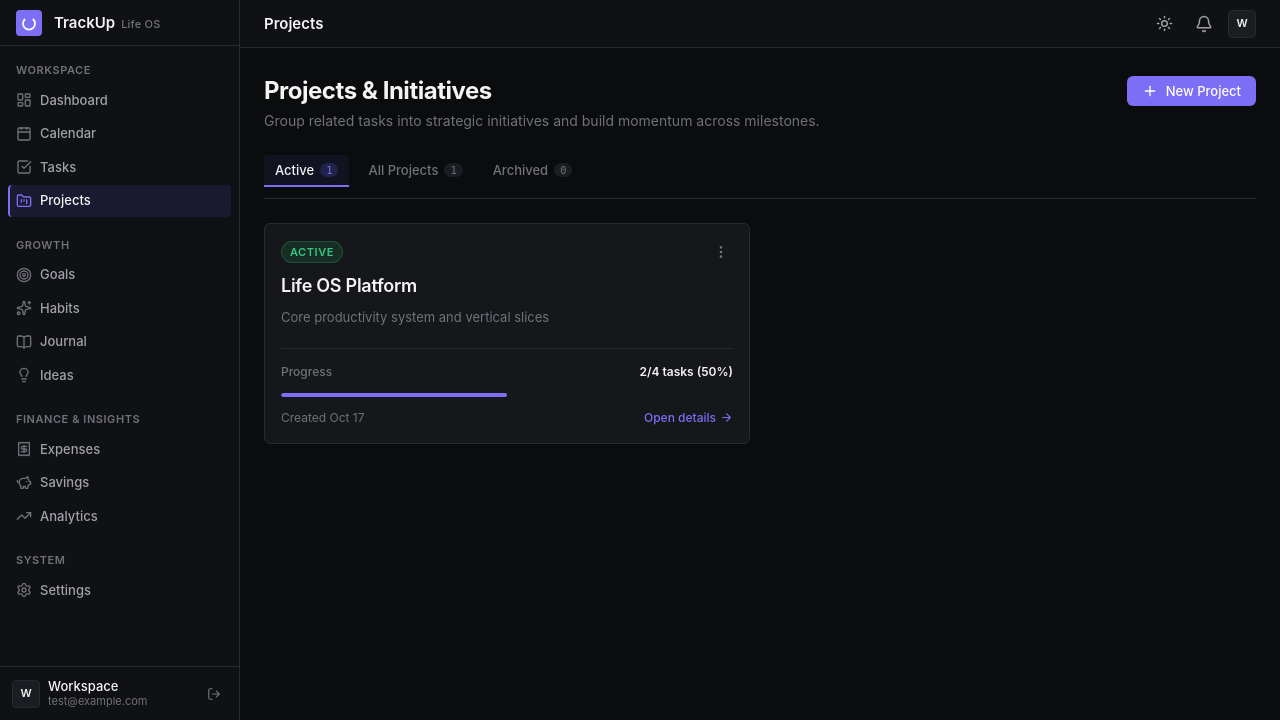
Test case: Milestone 3: Projects Vertical Slice › Projects List Page (/projects) › opens create project modal and adds newly created project to list
Expected: the link "Life OS Platform" is shown, top-left (281, 275), bottom-right (417, 296)
Click the button "New Project": (1191, 91) top-left (1127, 76), bottom-right (1256, 106)
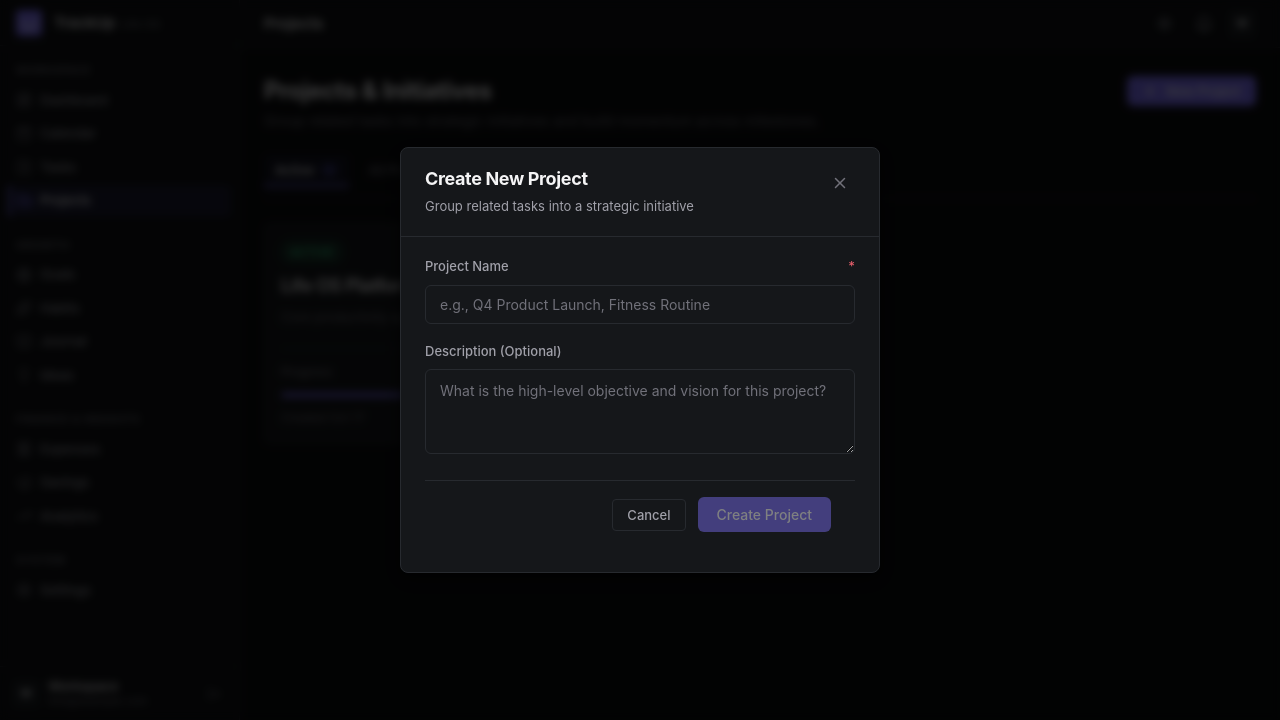
Now the heading "Create New Project" is shown, box top-left (425, 168), bottom-right (588, 189)
In the field labelled "Project Name *": (640, 304) top-left (425, 284), bottom-right (855, 324), type "Mobile Companion App"
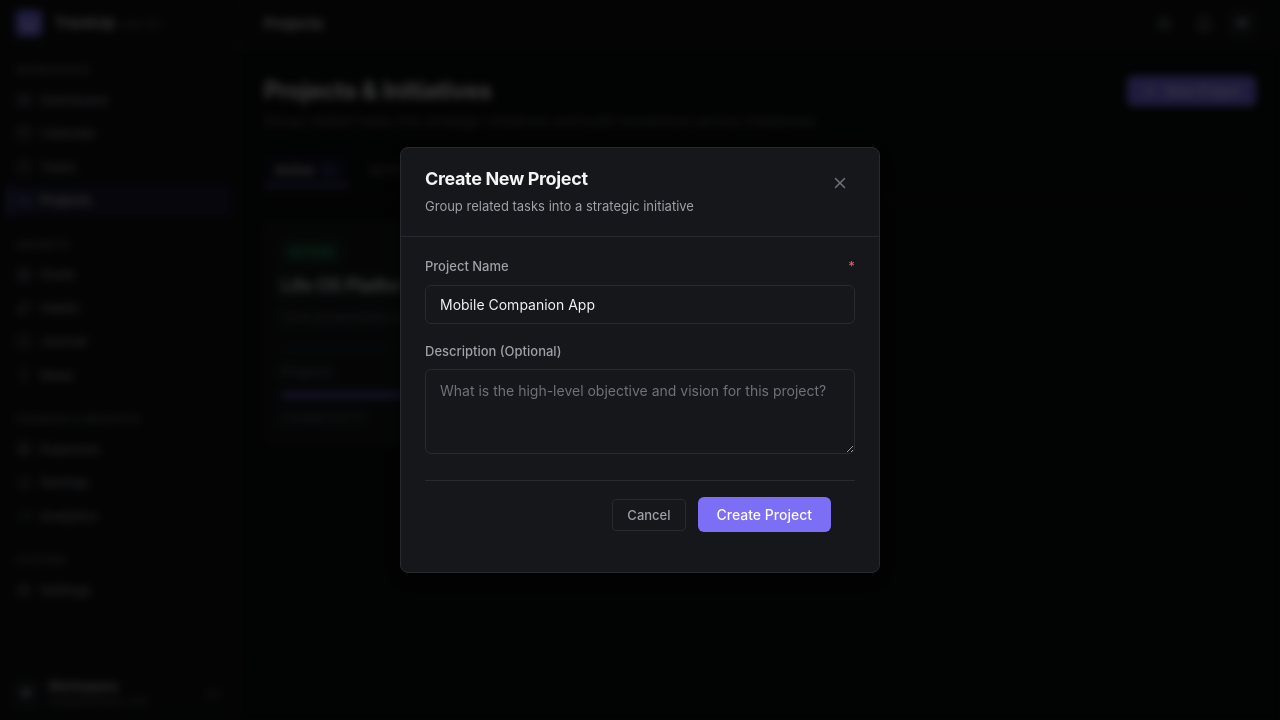
Replace the text in the text box labelled "Description (Optional)" with "React Native or PWA companion client": (640, 412) top-left (425, 369), bottom-right (855, 454)
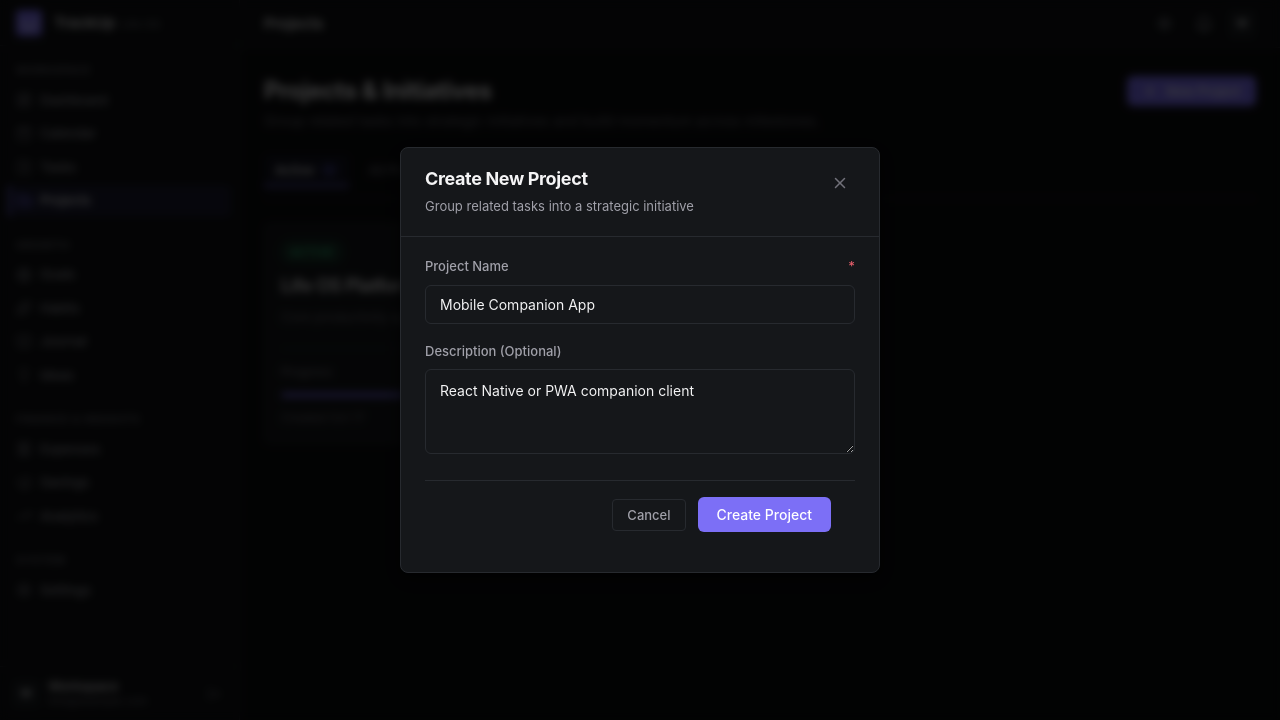
Click the button "Create Project": (764, 514) top-left (698, 497), bottom-right (831, 532)
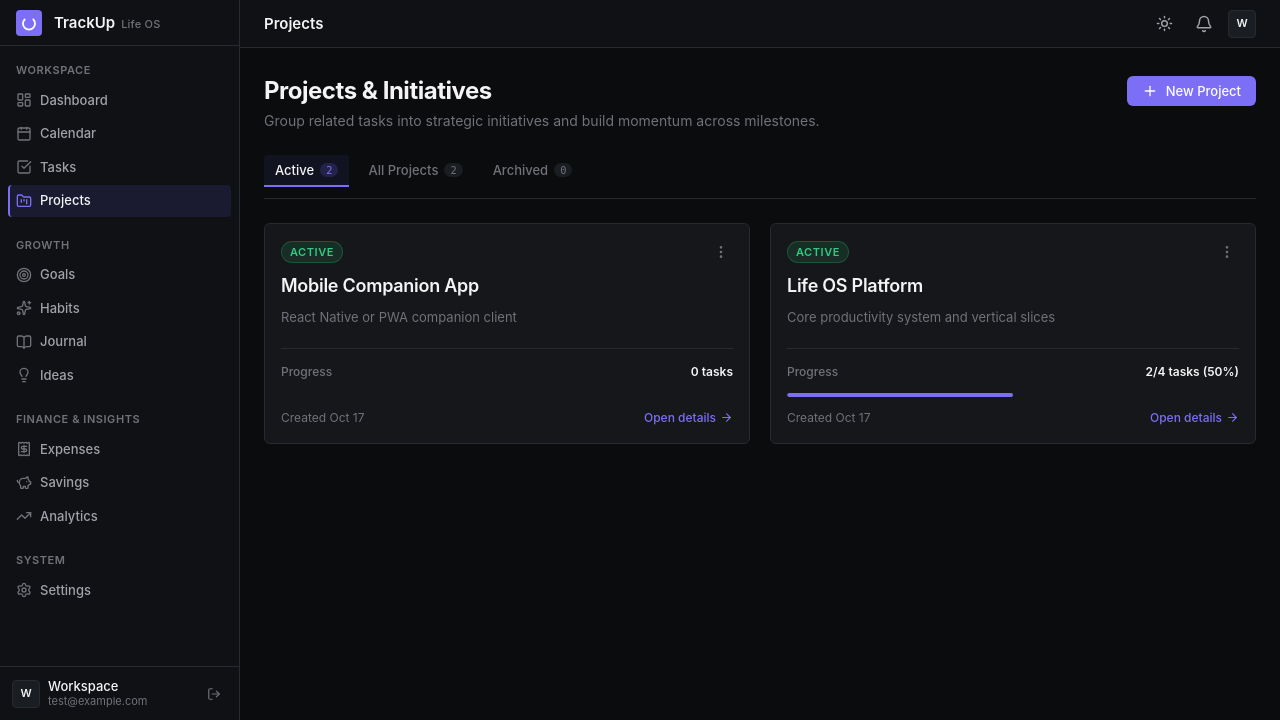
Now the link "Mobile Companion App" is shown, box top-left (281, 275), bottom-right (479, 296)
